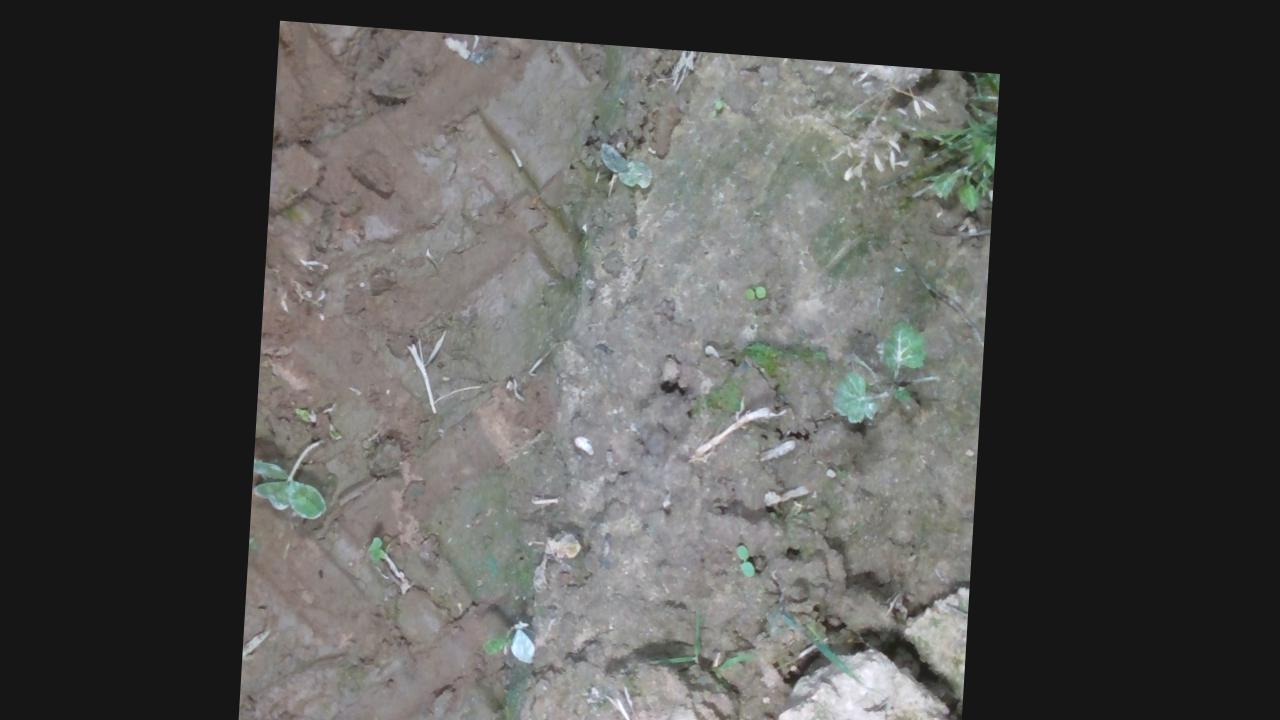weed: (745, 273, 769, 290)
